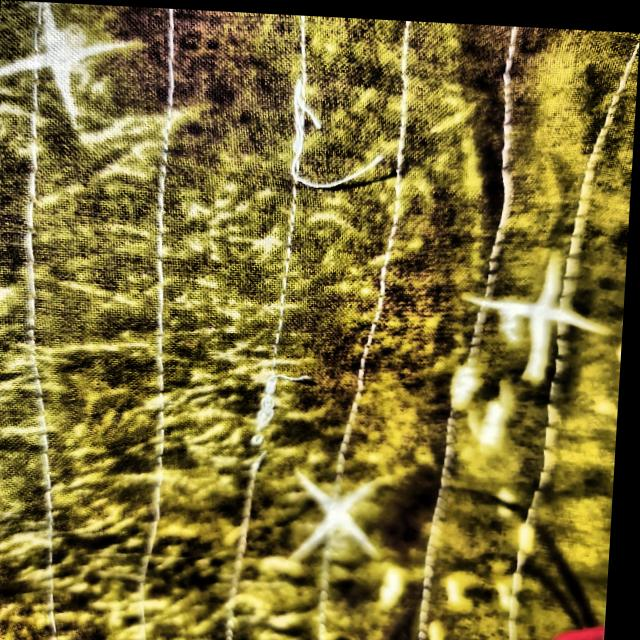Stitch: (264, 65, 413, 224), (222, 337, 349, 486)
